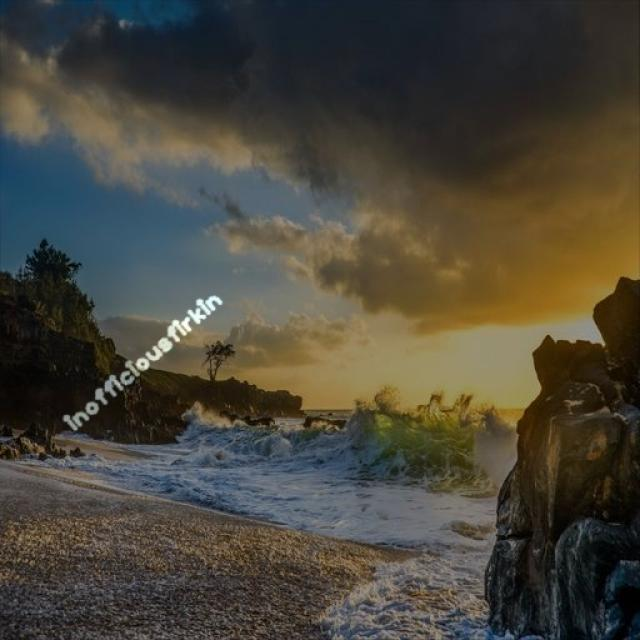watermark: (68, 284, 223, 434)
